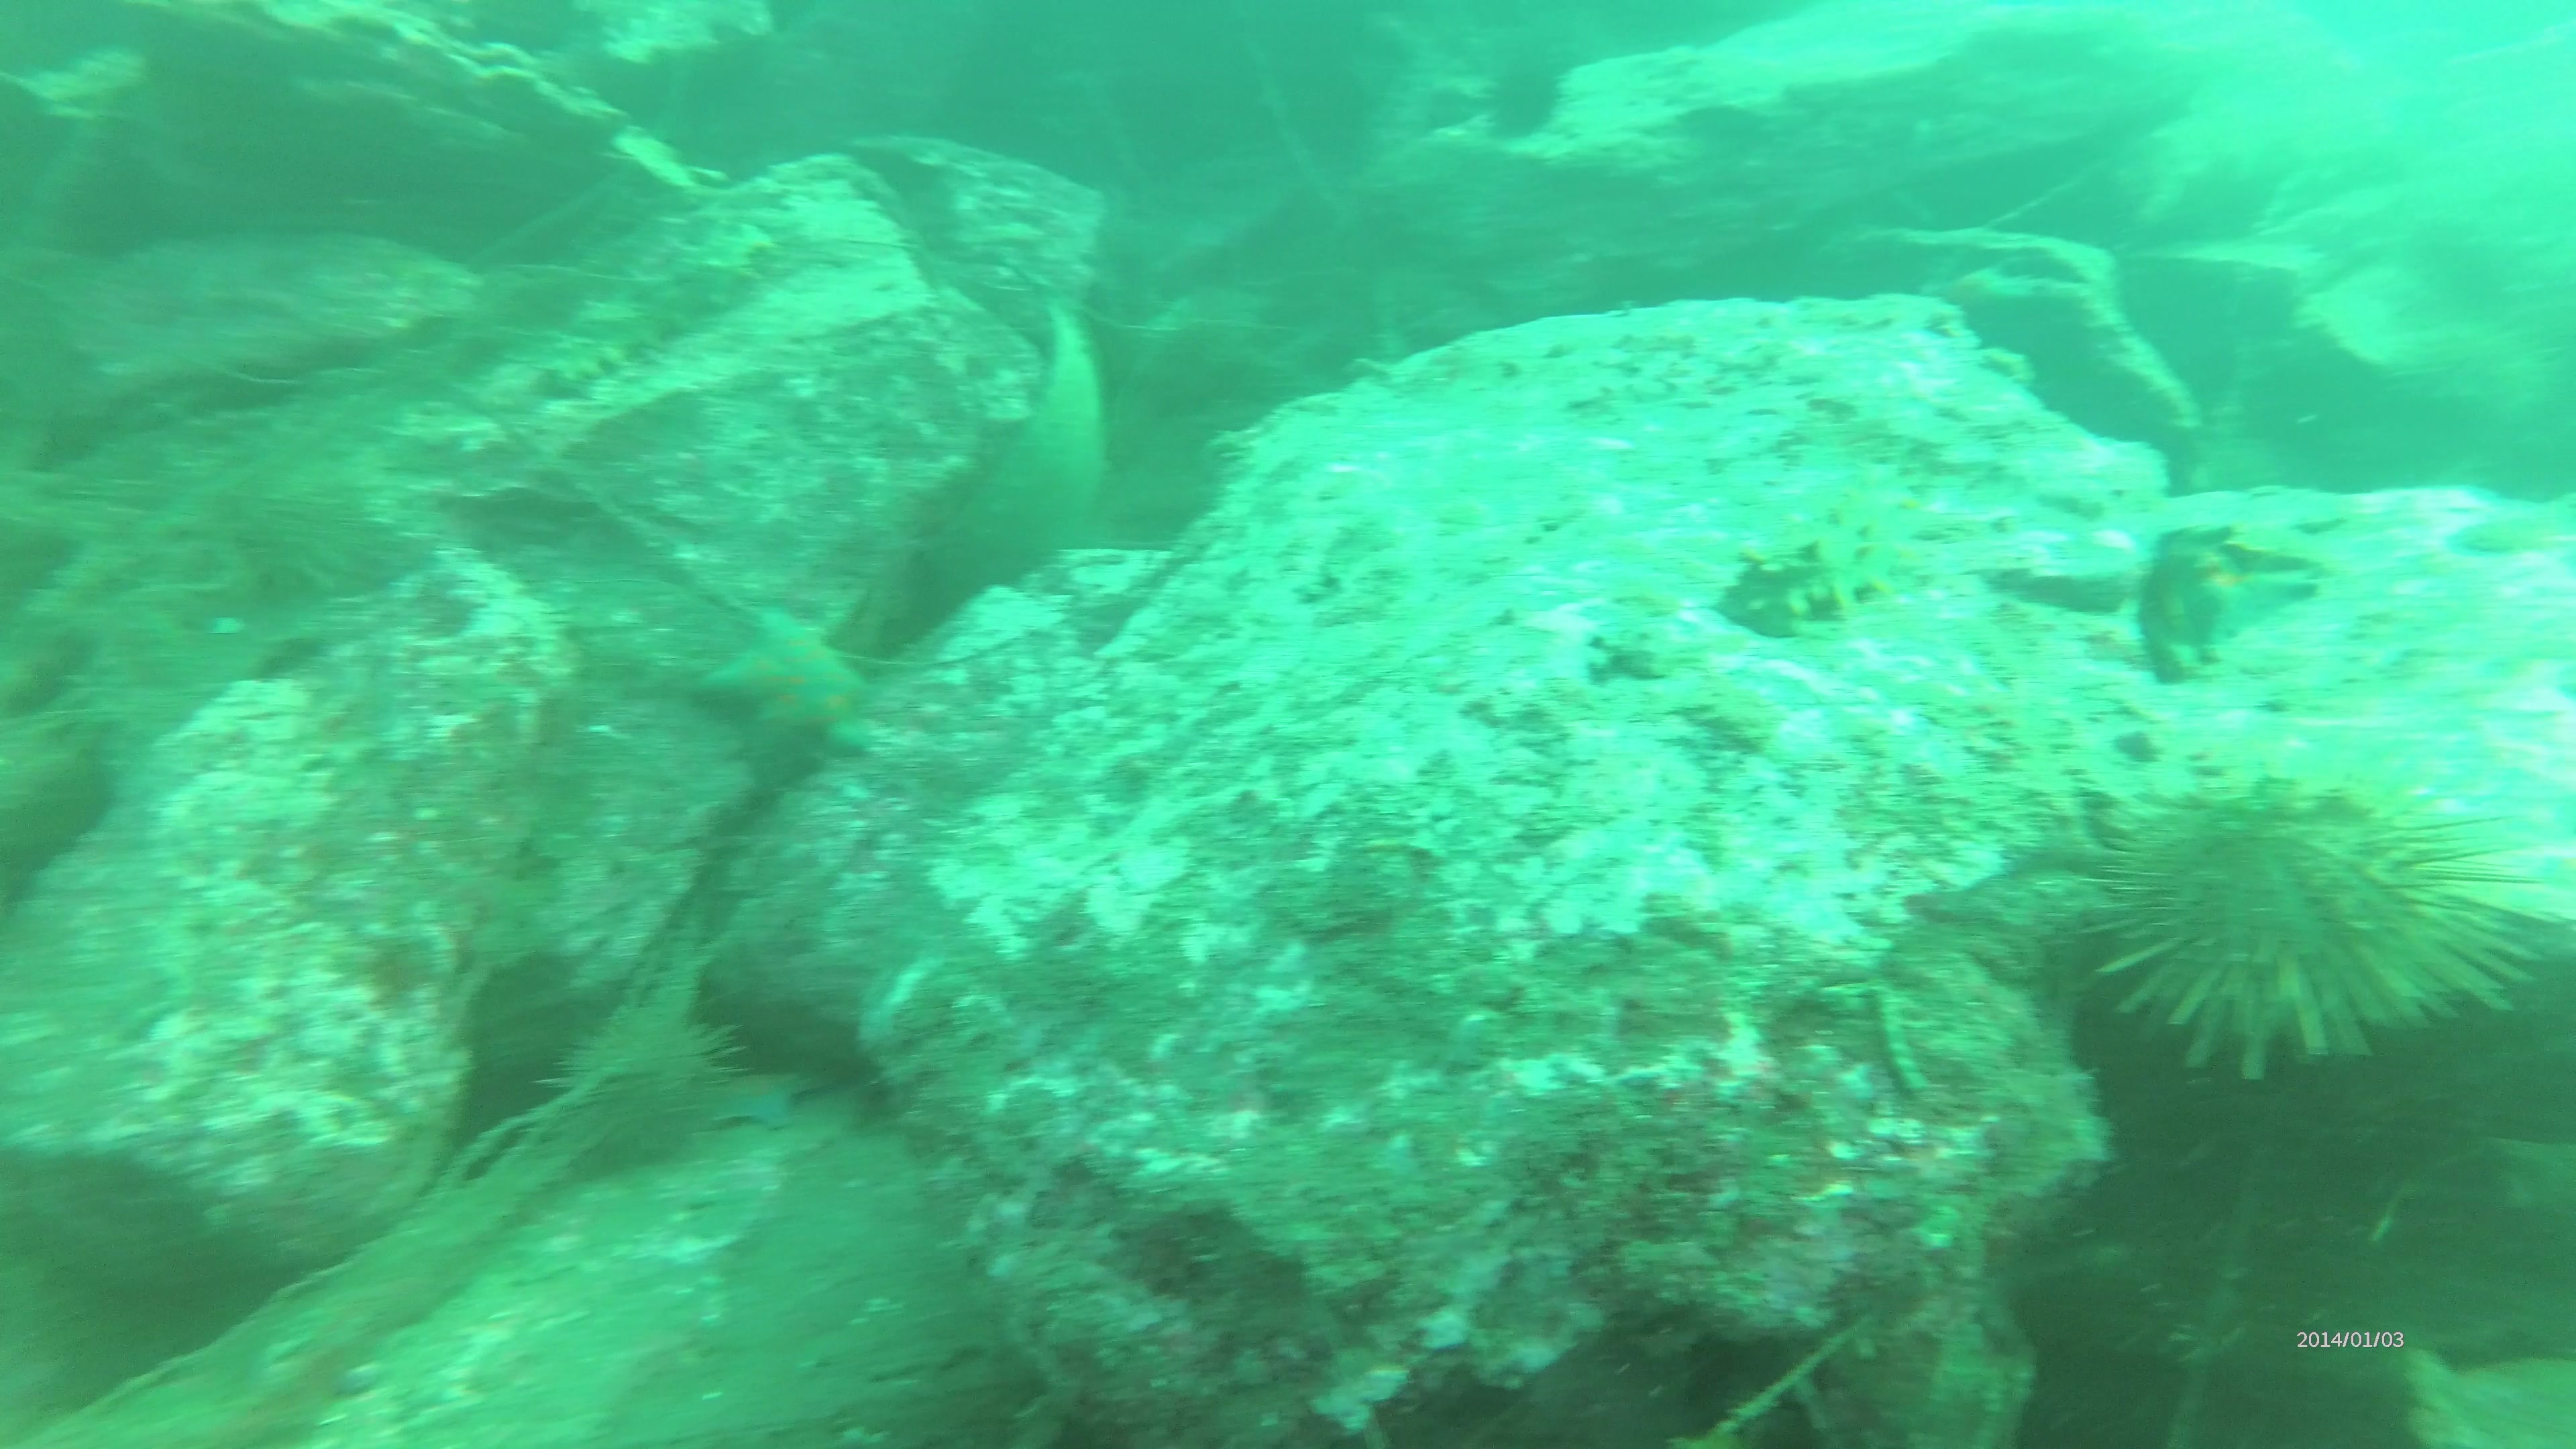echinus: (2063, 766, 2546, 1076), (522, 1007, 750, 1171), (203, 472, 386, 602)
holothurian: (1730, 485, 1925, 644)
starfish: (683, 600, 879, 770)
